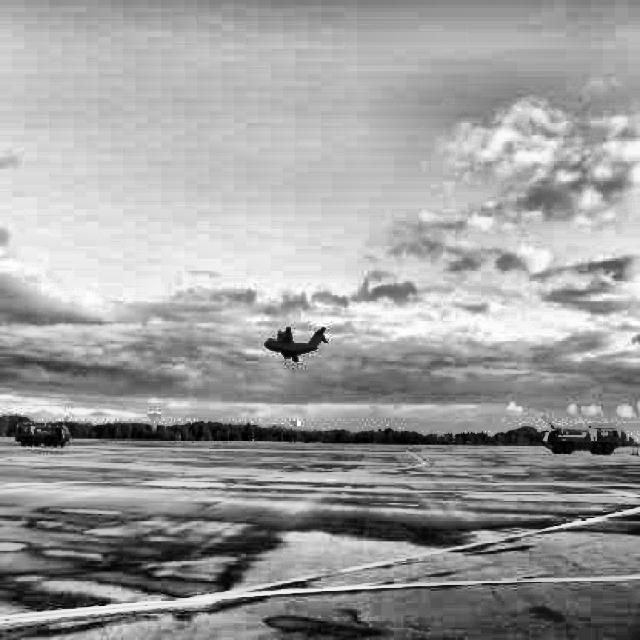A400M: (264, 327, 328, 362)
